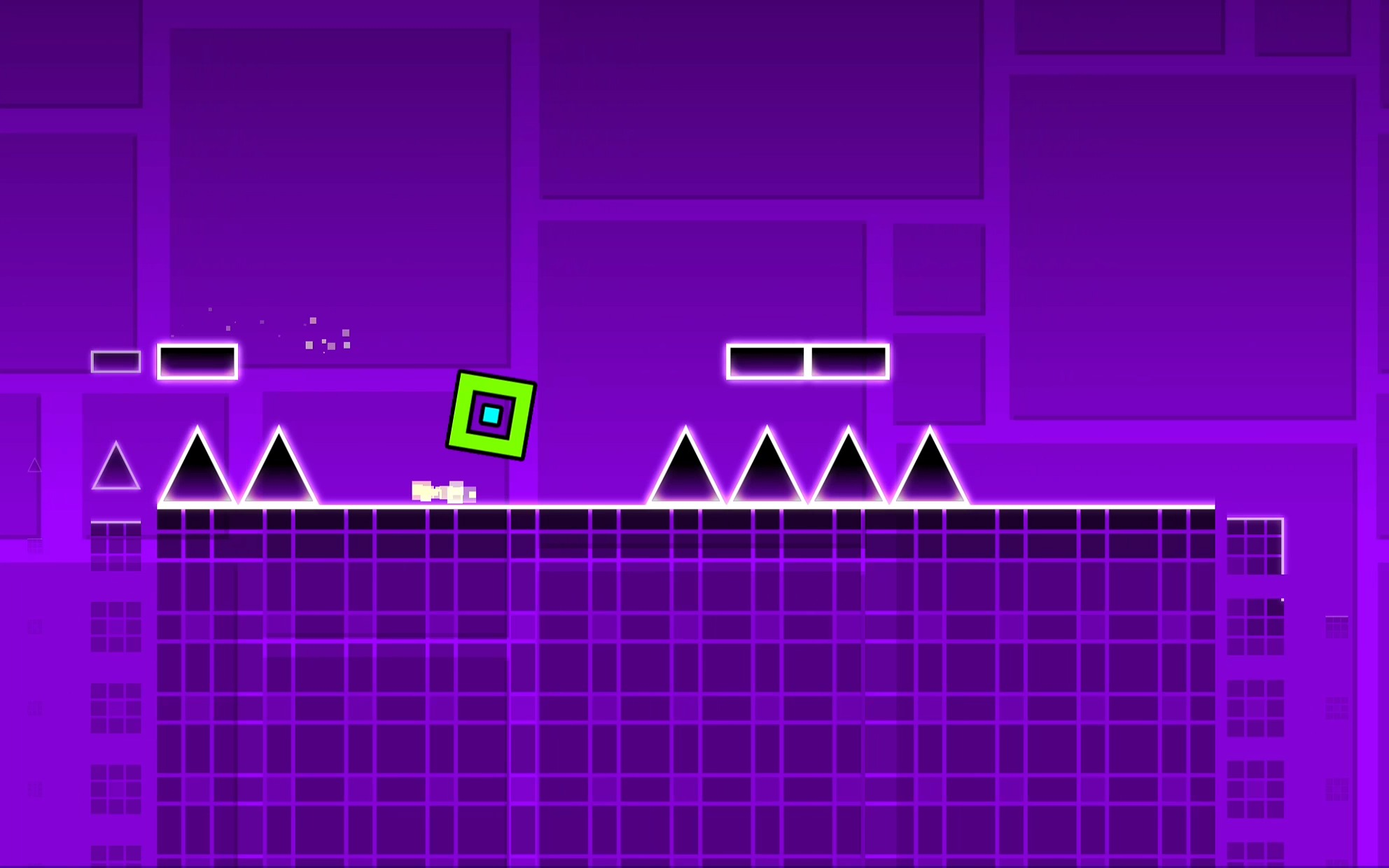Block2: (84, 504, 1288, 868)
Block3: (721, 343, 808, 380), (155, 342, 240, 379), (810, 346, 888, 379), (91, 350, 141, 372)
Player: (447, 371, 535, 460)
Spike: (158, 427, 233, 503), (647, 426, 721, 502), (242, 426, 316, 502), (894, 428, 967, 502), (732, 425, 803, 501), (813, 426, 884, 501), (92, 441, 139, 489)
